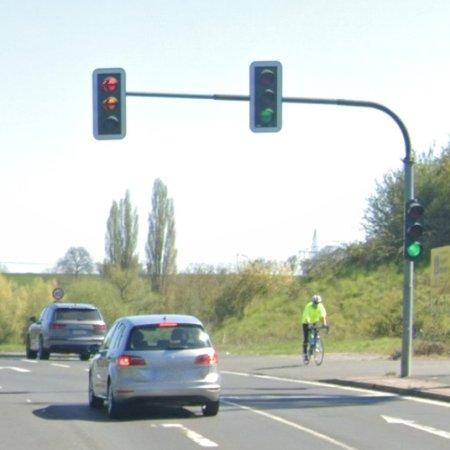traffic lights: (94, 67, 126, 142), (250, 60, 282, 134), (406, 200, 424, 264)
